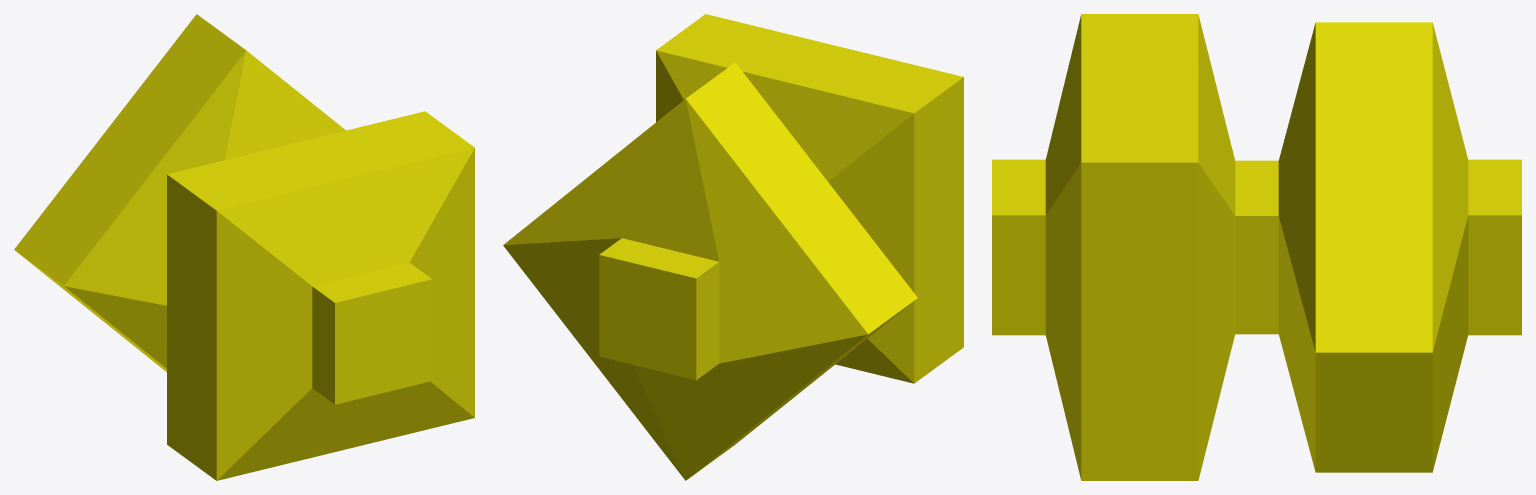
File: bolts.fbx
The picture shows the model from 3 angles, left to right: view 1: azimuth 30°, elevation 25°; view 2: azimuth 150°, elevation 25°; view 3: azimuth 270°, elevation 25°; orthographic projection. The views are drawn at different scales.
Parts seen in each view (by area): view 1: Cube.001; view 2: Cube.001; view 3: Cube.001.
Part boxes in pixels (x1=…): Cube.001: x1=14, y1=14, x2=474, y2=480; Cube.001: x1=503, y1=14, x2=963, y2=480; Cube.001: x1=992, y1=14, x2=1521, y2=480.
Size of the model in its own units: 283 by 283 by 302.
